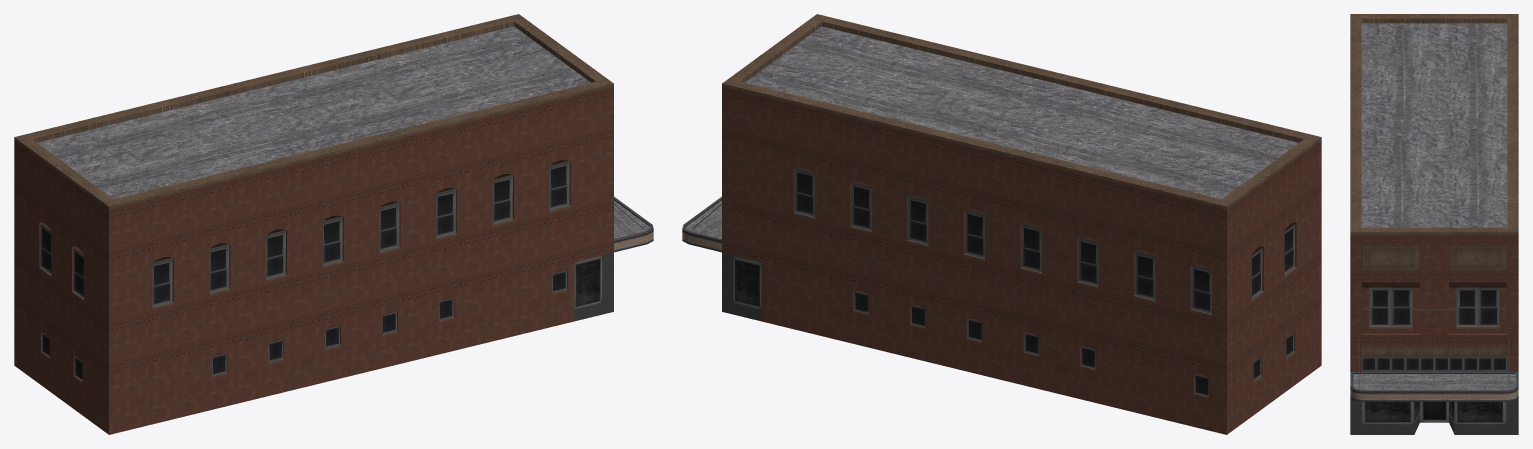
3 views of the same model, side by side, from view 1: azimuth 30°, elevation 25°; view 2: azimuth 150°, elevation 25°; view 3: azimuth 270°, elevation 25° (orthographic). The views are drawn at different scales.
Parts seen in each view (by area): view 1: MainBuilding_0; view 2: MainBuilding_0; view 3: MainBuilding_0.
Part boxes in pixels (left/top/right/bottom): MainBuilding_0: left=14, top=14, right=653, bottom=434; MainBuilding_0: left=682, top=14, right=1321, bottom=434; MainBuilding_0: left=1350, top=14, right=1518, bottom=434.
Size of the model in its own units: 24.23 by 9.61 by 7.24.
Materials: 1 (1 with a texture image).
